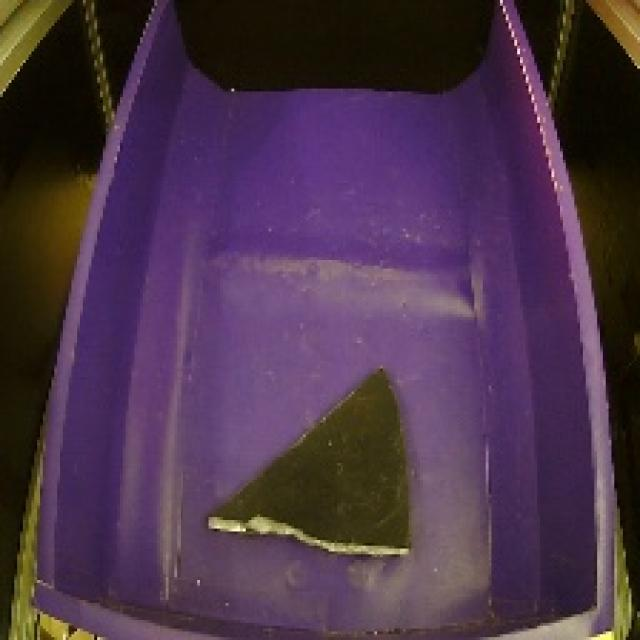china: (192, 362, 426, 572)
